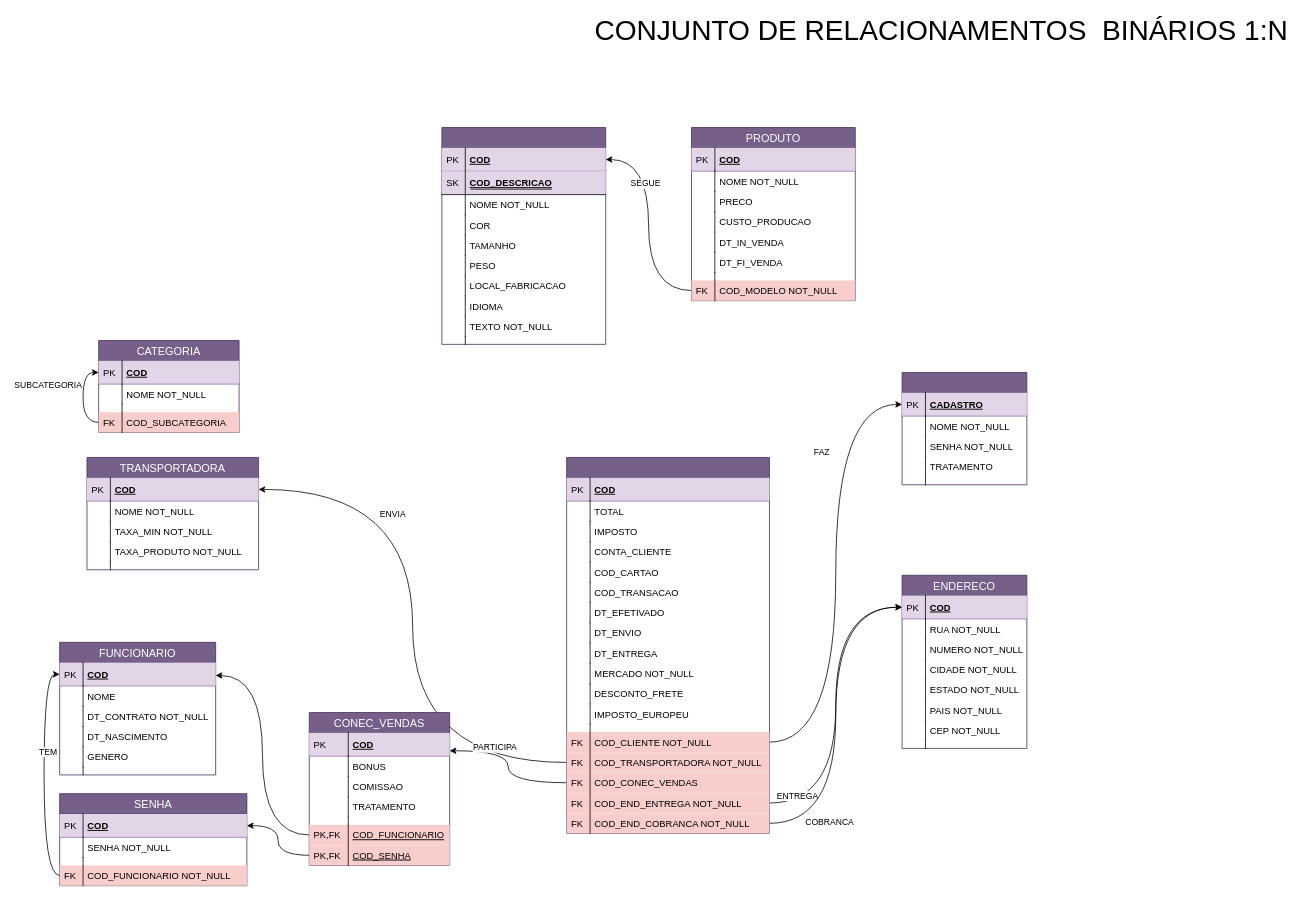
The diagram is 1305 pixels wide and 902 high, and some of its shapes have lost their labels. Each missing label, with the box of its shape:
CLIENTE: (901, 372, 1027, 485)
MODELO_DESCRICAO: (441, 127, 606, 344)
PEDIDO: (566, 457, 769, 833)
